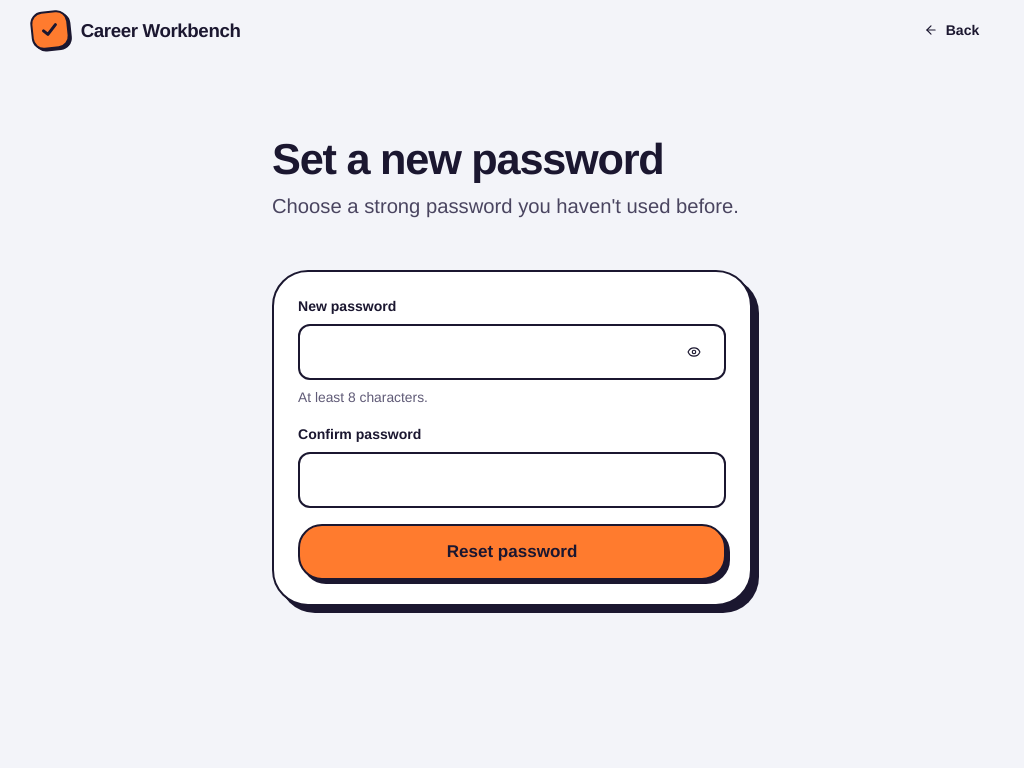
Test: ResetPasswordPage states › turns a token the server rejects into the invalid-link state, with the way back to request a new one
Type "new-password-1" into the password field labelled "New password" at (492, 352), box [316, 326, 668, 378]
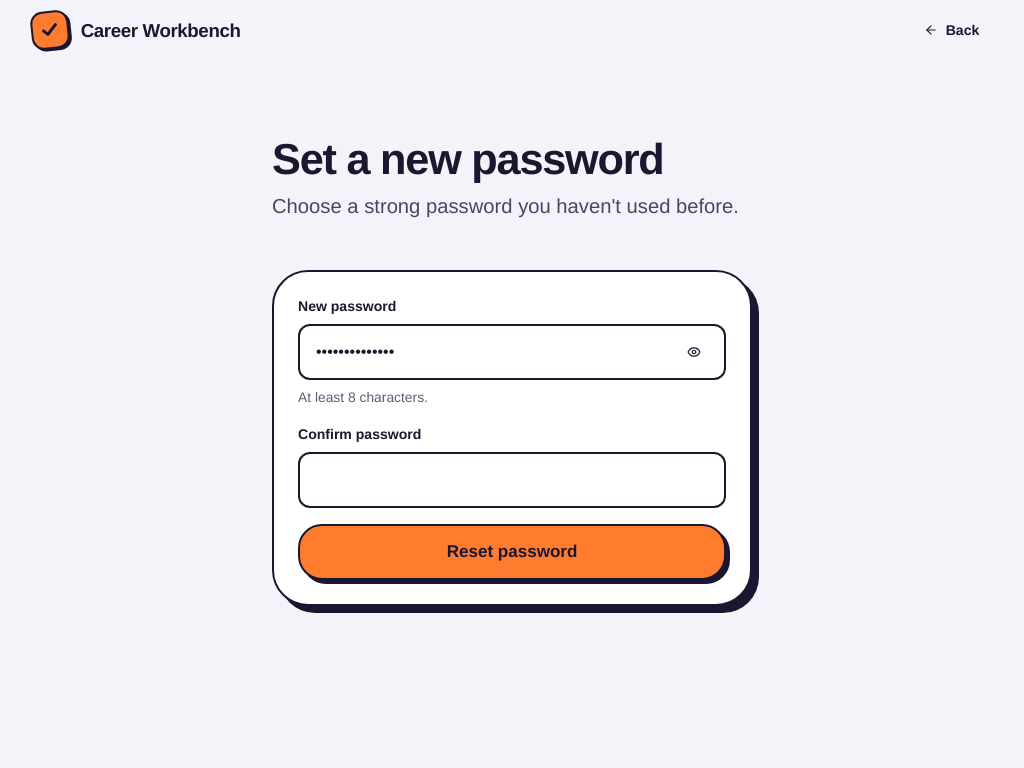
Type "new-password-1" into the password field labelled "Confirm password" at (512, 480), box [316, 454, 708, 506]
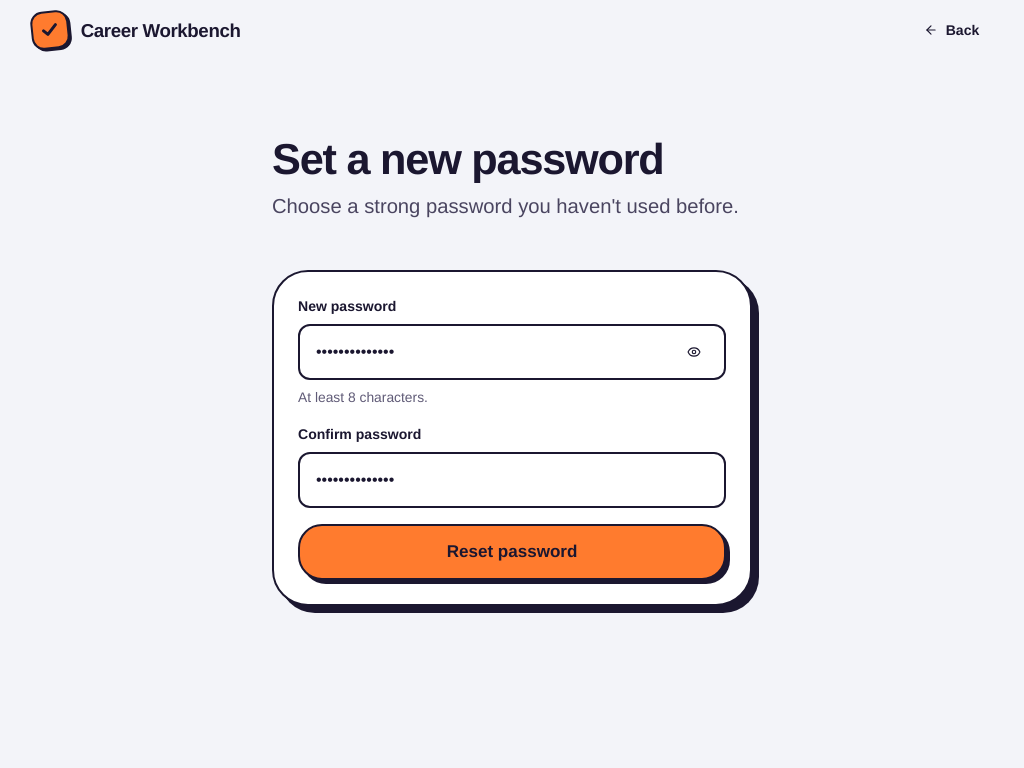
Click the button "Reset password" at (512, 552), box [298, 524, 726, 580]
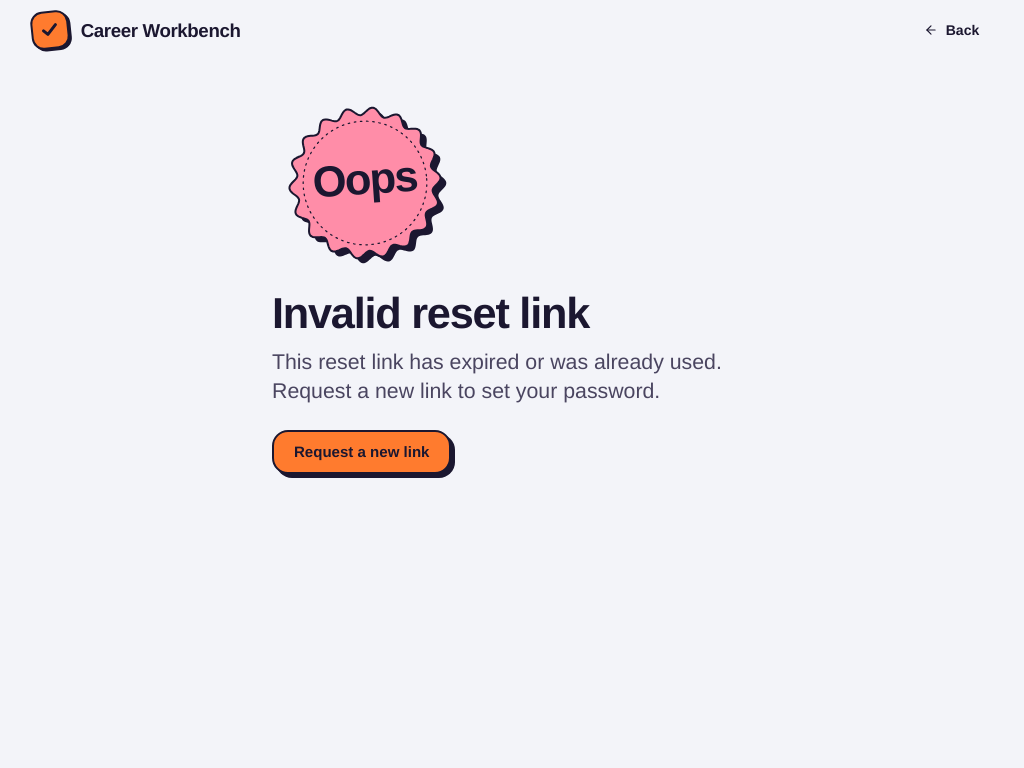
Expected: the heading "Invalid reset link" is shown, [272, 292, 589, 336]
Expected: the text "This reset link has expired or was already used. Request a new link to set your password." is shown, [272, 350, 722, 404]
